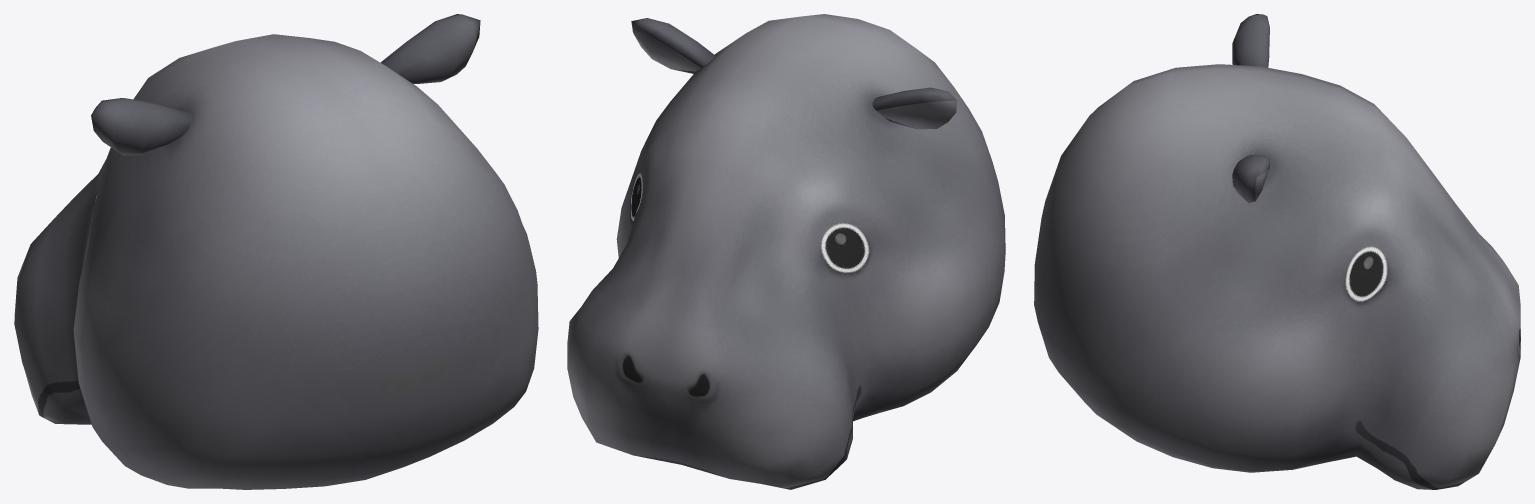
The model's file is Hippo.glb.
The picture shows the model from 3 angles, left to right: view 1: azimuth 30°, elevation 25°; view 2: azimuth 150°, elevation 25°; view 3: azimuth 270°, elevation 25°; orthographic projection. The views are drawn at different scales.
Parts seen in each view (by area): view 1: Hippo; view 2: Hippo; view 3: Hippo.
Part boxes in pixels (x1=…): Hippo: x1=14, y1=14, x2=538, y2=489; Hippo: x1=567, y1=14, x2=1005, y2=489; Hippo: x1=1034, y1=14, x2=1520, y2=489.
Bounding box in the file's own units: 0.7923 × 0.771 × 0.9608.
Materials: 1 (1 with a texture image).
